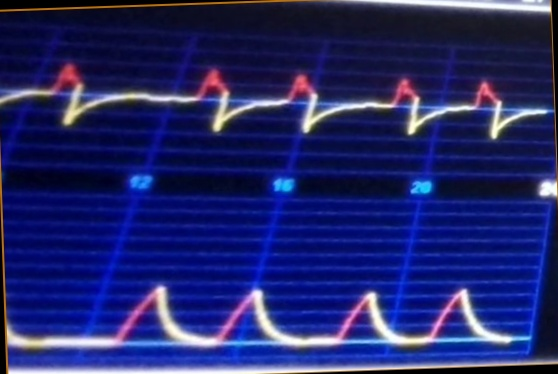Accumulation Flow: (2, 53, 547, 155)
Volume: (7, 269, 511, 360)
